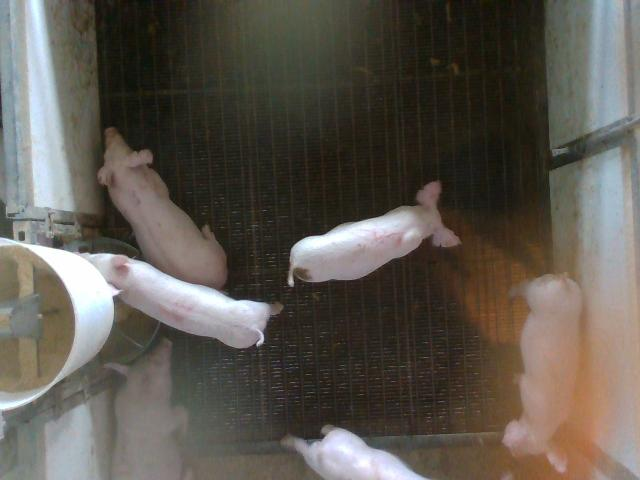pig-4: (80, 255, 282, 348)
pig-5: (288, 181, 460, 286)
